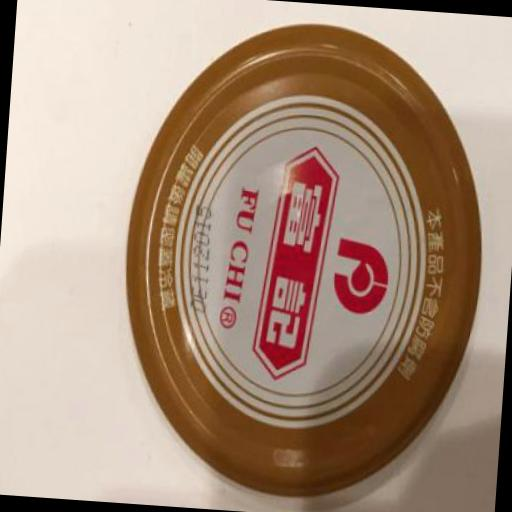metal: (110, 10, 498, 509)
